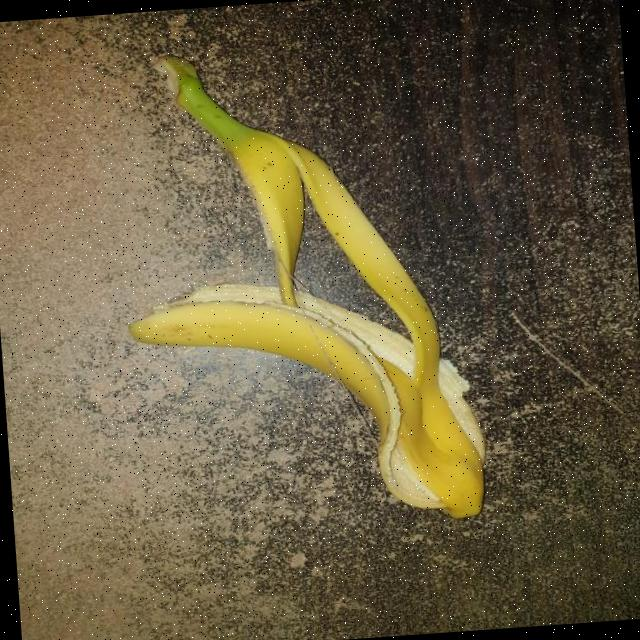banana-peel: (108, 32, 489, 541)
